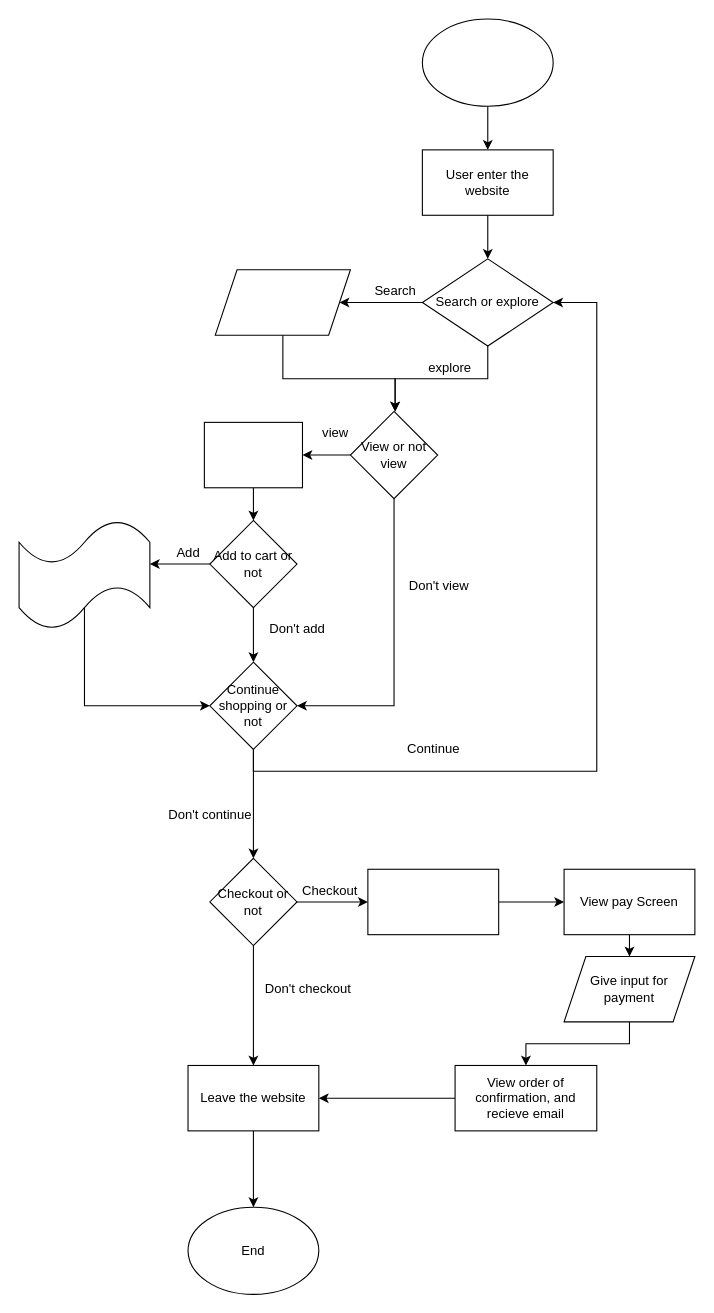
Image size: 714x1313. Some labels were removed from this diagram. The shapes that lost their labels are listed below. From the top down, each one's centre as x and y in pixels, then its label:
At point 487,62: "start".
At point 282,302: "User input name".
At point 252,454: "Open the product page".
At point 84,574: "Revieve confirmation".
At point 433,901: "View Cart Screen".
